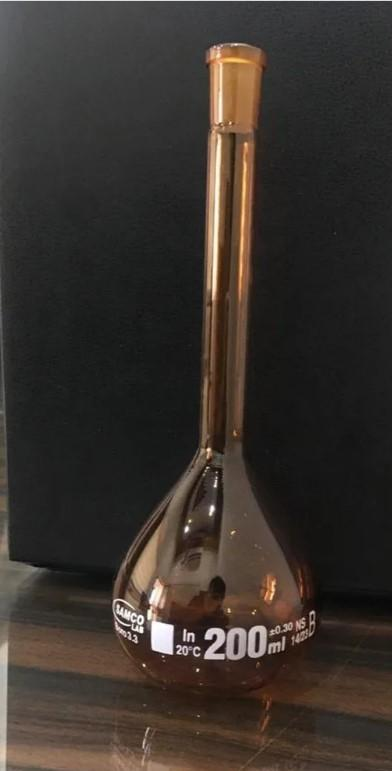Volumetric flask: (109, 35, 322, 695)
